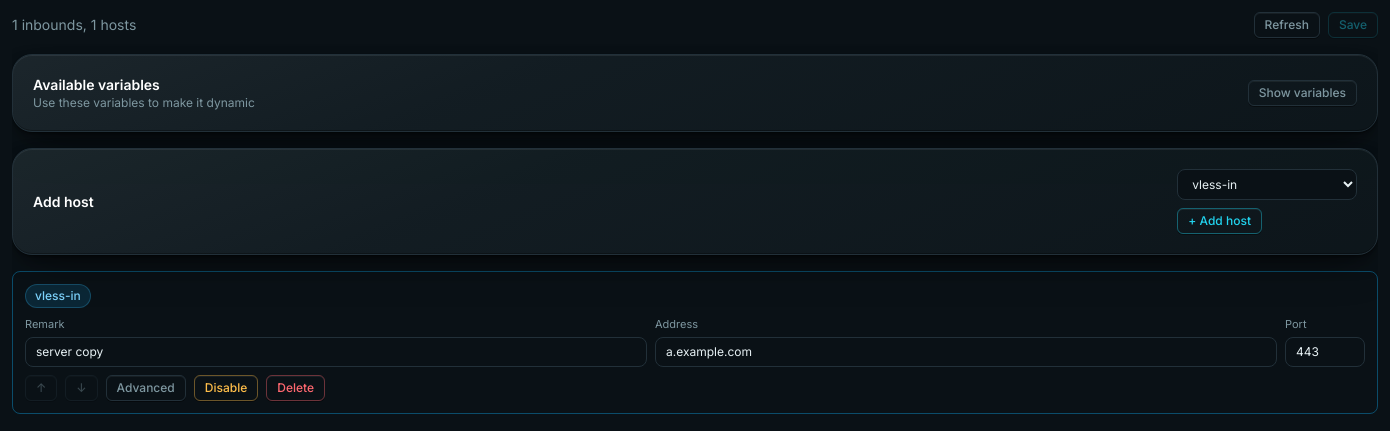
Test: backing out of an edit › Discard brings the server's copy back, even when the refetch answers exactly the same
The image size is (1390, 431).
Replace the text in the field labelled "Remark" with "my edit" at (336, 352), box left=25, top=336, right=647, bottom=366
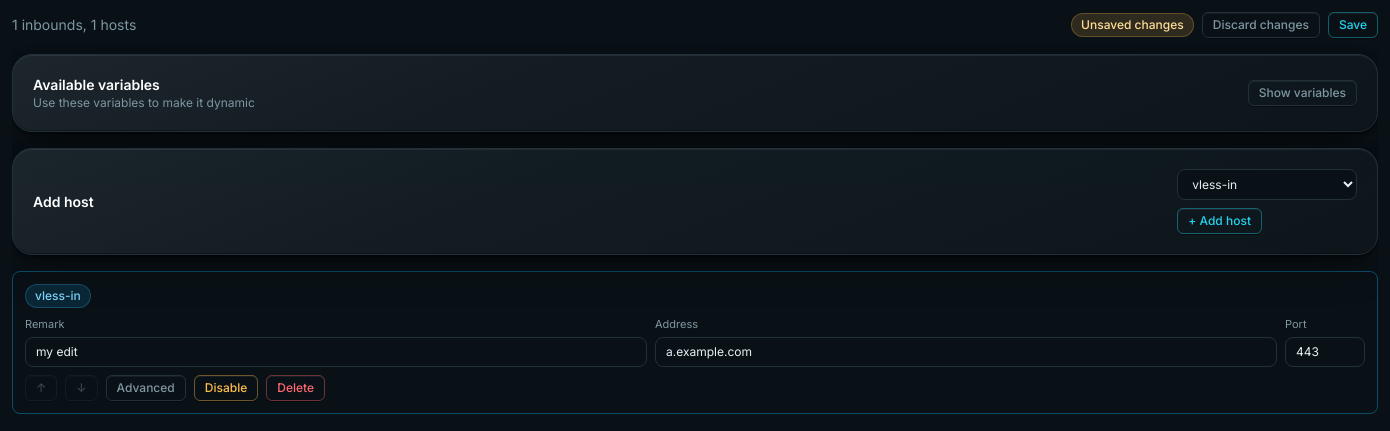
Result: the text "Unsaved changes" is shown at left=1071, top=13, right=1194, bottom=37
Click the button "Discard changes" at (1261, 25), box left=1202, top=12, right=1320, bottom=38
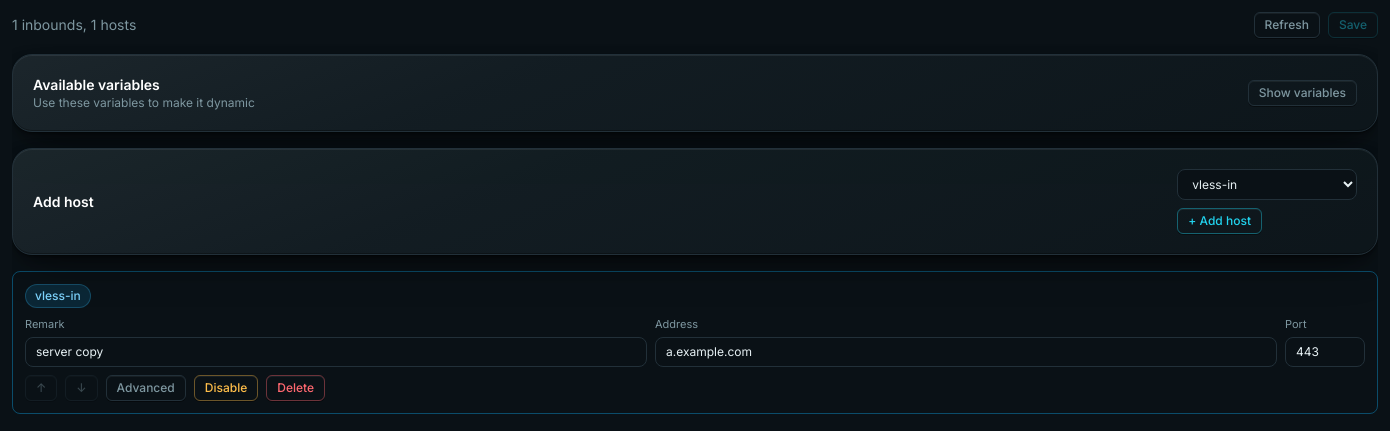
Result: the field labelled "Remark" holds "server copy" at left=25, top=336, right=647, bottom=366
Result: the text "Unsaved changes" is gone
Result: the button "Discard changes" is gone
